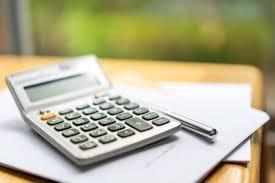Calculator: (0, 49, 189, 174)
